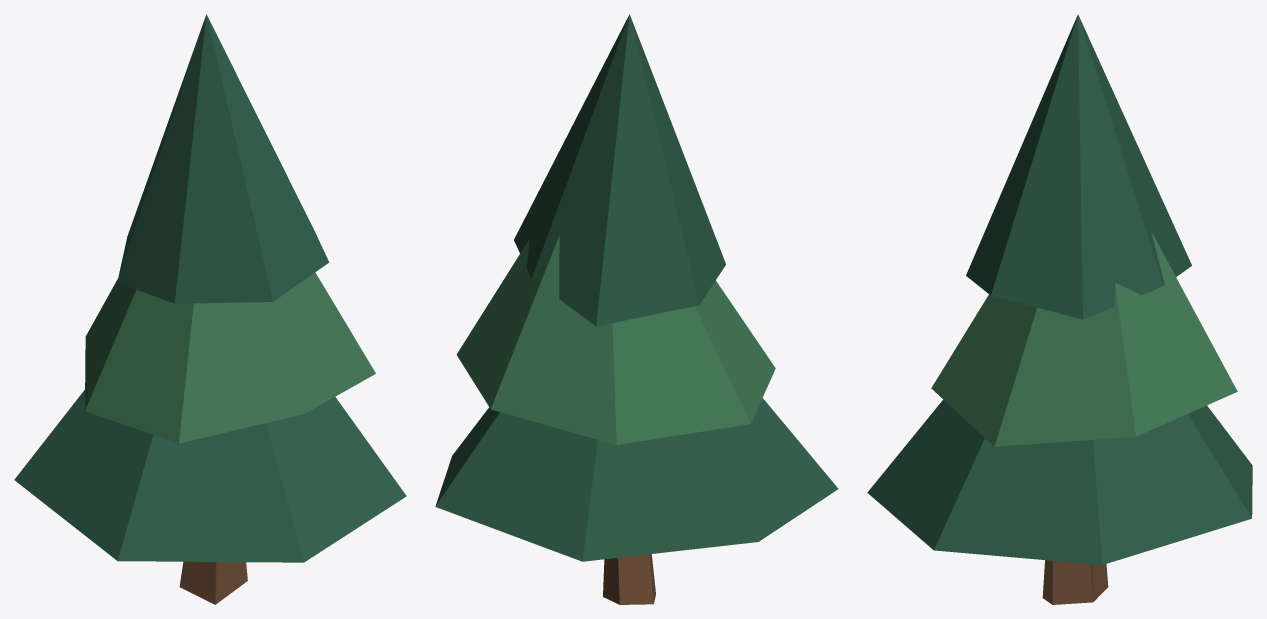
Rendered from world_tree_conifer_s.obj.
3 renders of one model, left to right at view 1: azimuth 30°, elevation 25°; view 2: azimuth 150°, elevation 25°; view 3: azimuth 270°, elevation 25°, orthographic. The views are drawn at different scales.
Parts seen in each view (by area): view 1: world_tree_conifer_s; view 2: world_tree_conifer_s; view 3: world_tree_conifer_s.
Part boxes in pixels (x1,y1,x2,y2): world_tree_conifer_s: [14, 14, 406, 604]; world_tree_conifer_s: [435, 14, 838, 604]; world_tree_conifer_s: [867, 14, 1252, 604].
Bounding box in the file's own units: 5.91 × 10.16 × 6.03.
